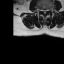CCS_normal: (44, 8, 45, 16)
LFS_stenosis: (47, 7, 49, 12)
LLS_stenosis: (45, 8, 47, 13)
RFS_normal: (40, 7, 42, 13)
RLS_stenosis: (42, 8, 44, 13)
